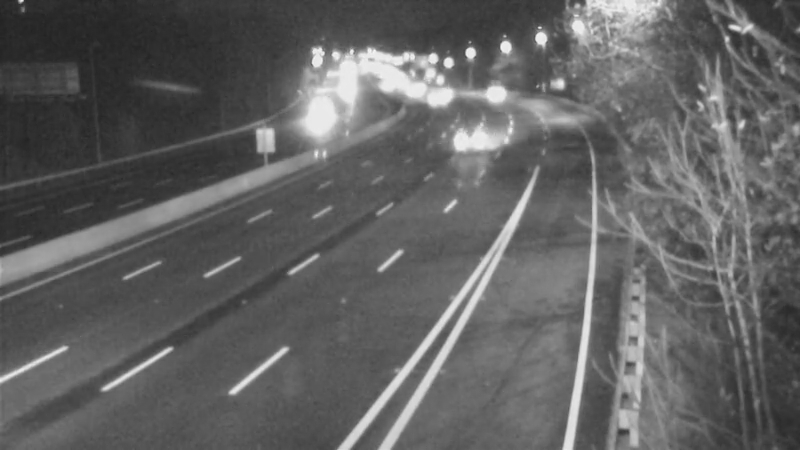vehicle: (469, 67, 519, 117), (405, 74, 455, 124), (440, 109, 490, 159), (288, 92, 338, 142)
